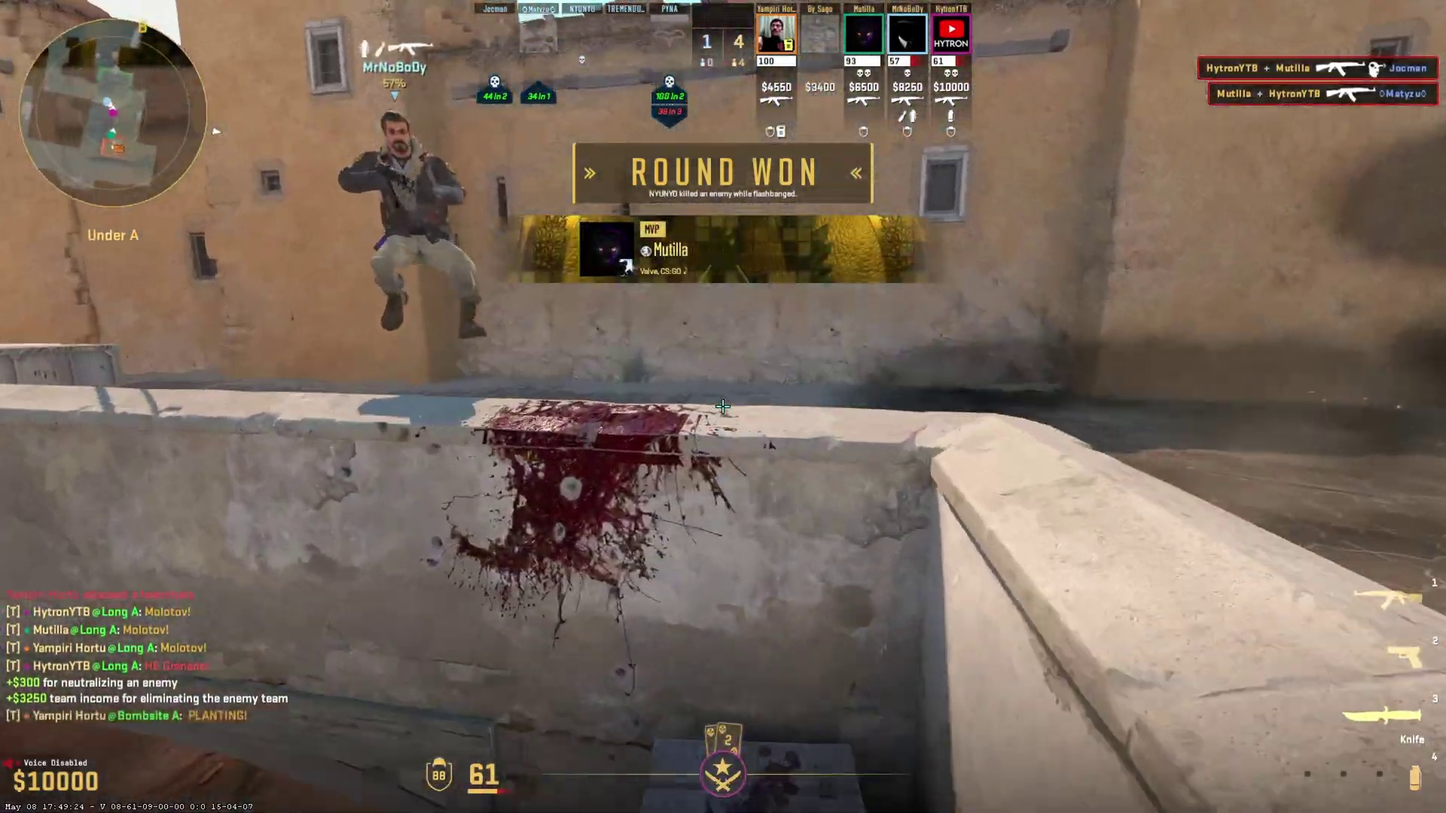Terrorist: (358, 109, 486, 335)
